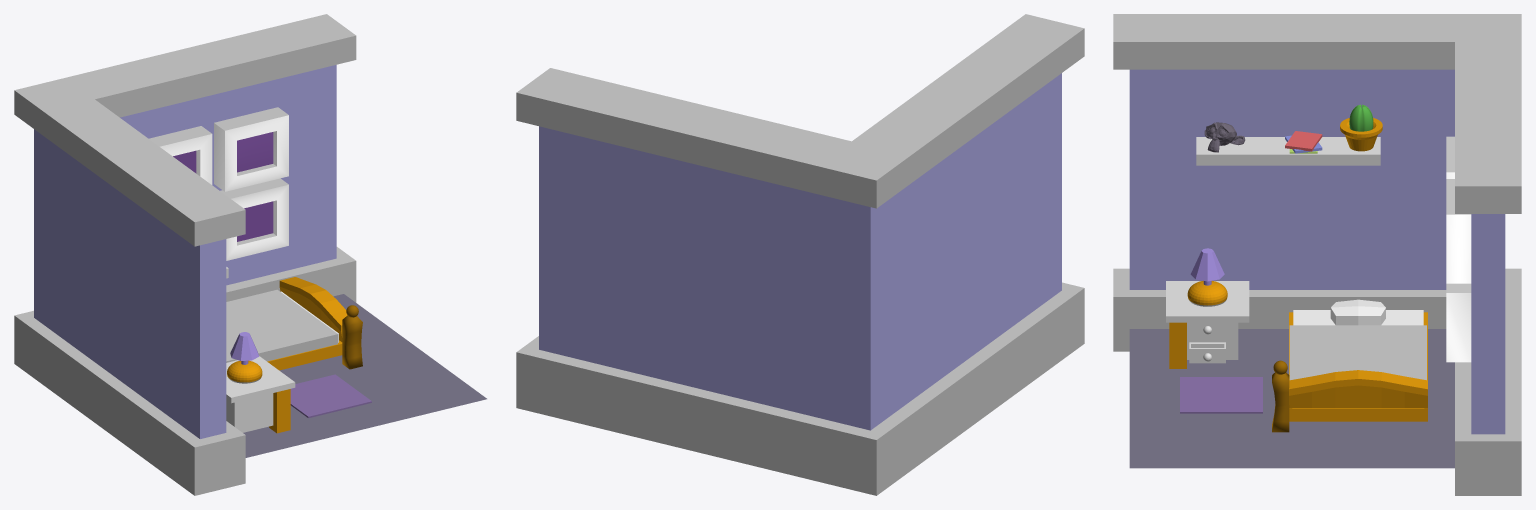
File: roomn.gltf
The picture shows the model from 3 angles, left to right: view 1: azimuth 30°, elevation 25°; view 2: azimuth 150°, elevation 25°; view 3: azimuth 270°, elevation 25°; orthographic projection. The views are drawn at different scales.
Parts seen in each view (by area): view 1: Suzanne; view 2: Suzanne; view 3: Suzanne.
Part boxes in pixels (x1,y1,x2,y2): Suzanne: (14,14,486,495); Suzanne: (516,14,1084,495); Suzanne: (1113,14,1521,495).
Bounding box in the file's own units: 2.39 × 2 × 2.39.
